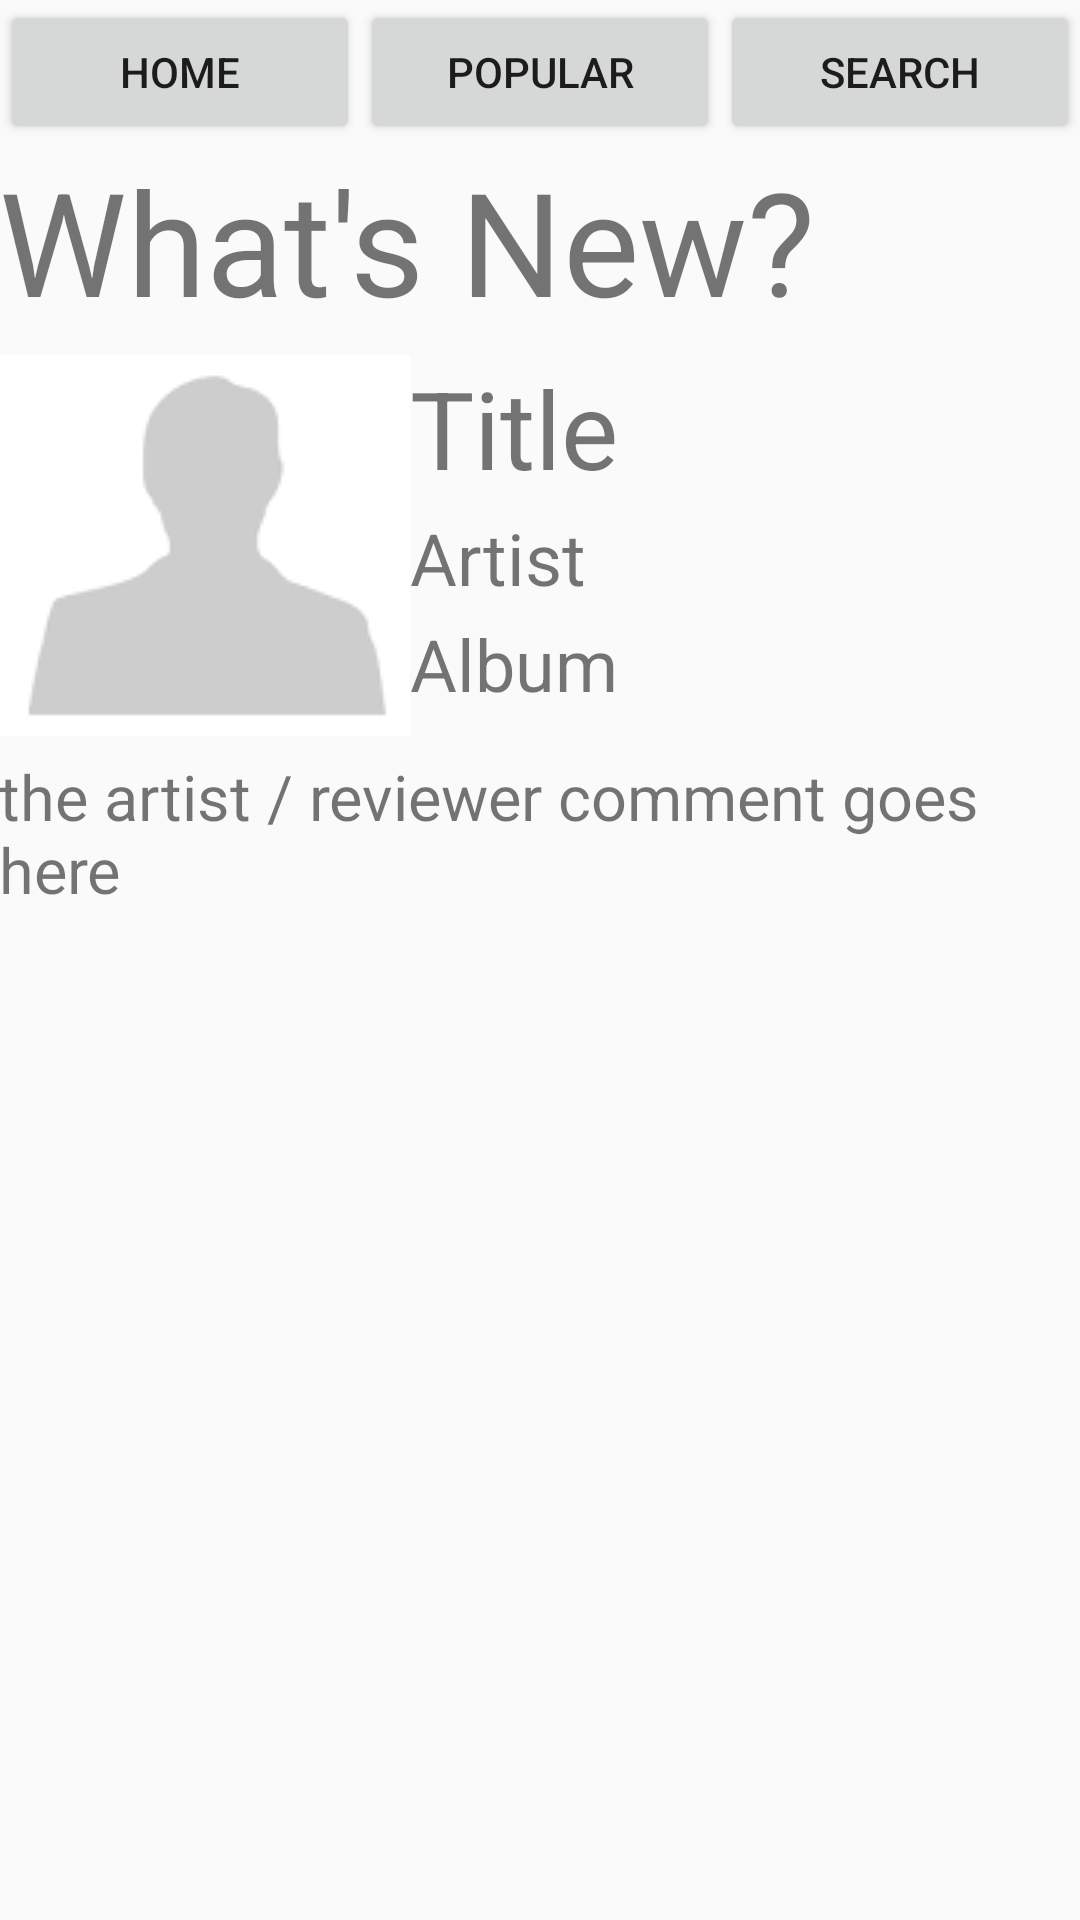

Where to tap for icons on this 1080px x 1920px app screen, as [x,y]:
person: [207,545]
